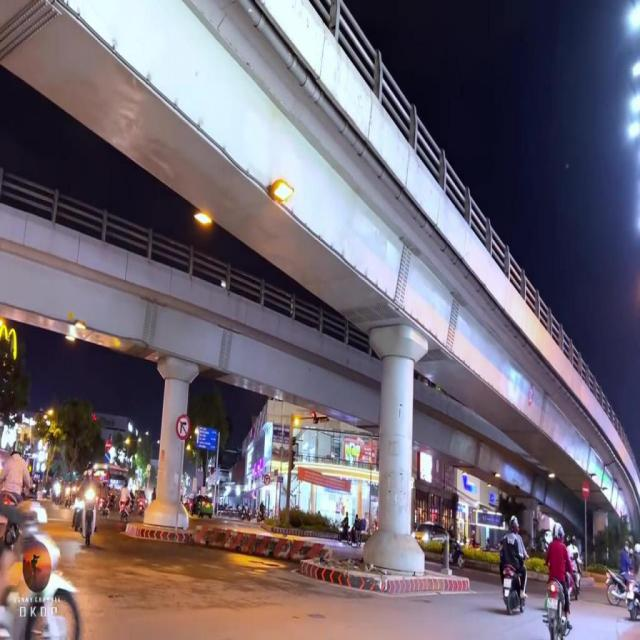cam_re_phai: (176, 413, 190, 439), (264, 475, 270, 486)
cam_xe_di_nguoc_chieu: (580, 480, 590, 499)
han_che_chieu_cao: (528, 384, 534, 404)
